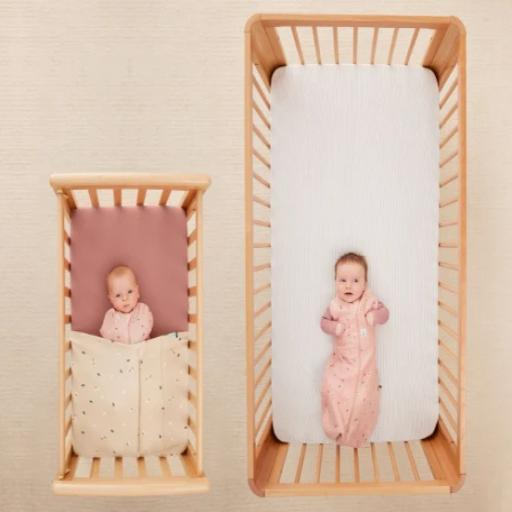baby: (321, 253, 388, 447), (101, 267, 153, 343)
crib: (245, 15, 466, 496), (51, 173, 210, 496)
